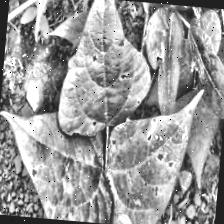ALS: (102, 86, 208, 224), (0, 108, 124, 224), (67, 0, 144, 137), (175, 19, 224, 134)
